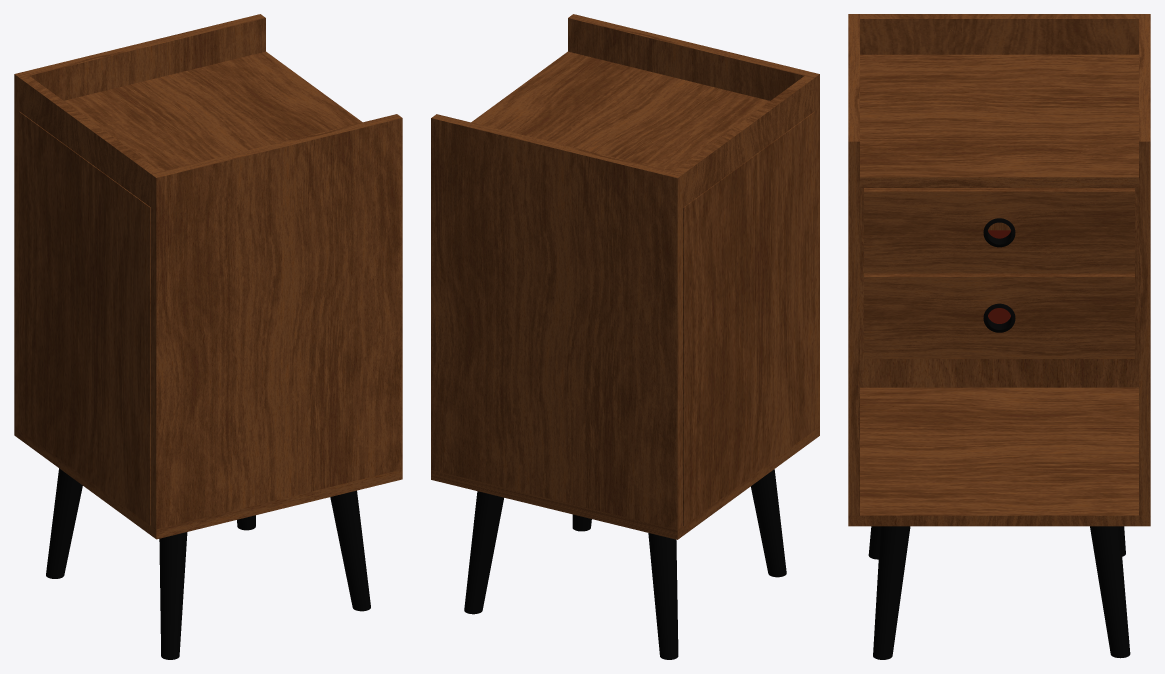
Rendered from criadomudo.glb.
3 views of the same model, side by side, from view 1: azimuth 30°, elevation 25°; view 2: azimuth 150°, elevation 25°; view 3: azimuth 270°, elevation 25° (orthographic). The views are drawn at different scales.
Parts seen in each view (by area): view 1: Componente4\Sólido, Componente6\Superfície, Componente3\Sólido, Componente5\Sólido, Componente6\Sólido, Componente2\Sólido, Pattern (Padrão)\Componente8\Sólido (2), Pattern (Padrão)\Componente8\Sólido (3), Pattern (Padrão)\Componente8\Sólido; view 2: Componente5\Sólido, Componente6\Superfície, Componente3\Sólido, Componente4\Sólido, Componente6\Sólido, Componente2\Sólido, Pattern (Padrão)\Componente8\Sólido, Pattern (Padrão)\Componente8\Sólido (4), Pattern (Padrão)\Componente8\Sólido (2); view 3: Componente2\Sólido, Componente3\Sólido, Componente7\Sólido, Componente7\Sólido (2), Componente6\Sólido, Componente6\Superfície, Componente4\Sólido, Componente5\Sólido, Pattern (Padrão)\Componente8\Sólido (3), Pattern (Padrão)\Componente8\Sólido (4), Componente7\Sólido1, Componente7\Sólido1 (2) (+1 smaller).
Boxes of the visible parts, x1,y1,x2,y2 form: Componente4\Sólido: [151, 114, 402, 529]; Componente6\Superfície: [19, 111, 150, 525]; Componente3\Sólido: [64, 51, 362, 171]; Componente5\Sólido: [14, 14, 265, 428]; Componente6\Sólido: [20, 76, 159, 207]; Componente2\Sólido: [14, 425, 402, 539]; Pattern (Padrão)\Componente8\Sólido (2): [159, 532, 187, 659]; Pattern (Padrão)\Componente8\Sólido (3): [330, 490, 370, 611]; Pattern (Padrão)\Componente8\Sólido: [46, 468, 82, 578]; Componente5\Sólido: [431, 114, 682, 529]; Componente6\Superfície: [683, 111, 814, 525]; Componente3\Sólido: [471, 51, 769, 171]; Componente4\Sólido: [568, 14, 819, 428]; Componente6\Sólido: [674, 76, 814, 207]; Componente2\Sólido: [431, 426, 819, 539]; Pattern (Padrão)\Componente8\Sólido: [648, 533, 678, 659]; Pattern (Padrão)\Componente8\Sólido (4): [464, 491, 503, 614]; Pattern (Padrão)\Componente8\Sólido (2): [751, 469, 786, 577]; Componente2\Sólido: [848, 387, 1150, 526]; Componente3\Sólido: [860, 54, 1138, 187]; Componente7\Sólido: [864, 188, 1134, 273]; Componente7\Sólido (2): [864, 273, 1134, 358]; Componente6\Sólido: [860, 14, 1138, 54]; Componente6\Superfície: [860, 188, 1138, 387]; Componente4\Sólido: [848, 14, 859, 515]; Componente5\Sólido: [1139, 14, 1150, 515]; Pattern (Padrão)\Componente8\Sólido (3): [873, 526, 910, 659]; Pattern (Padrão)\Componente8\Sólido (4): [1090, 526, 1130, 658]; Componente7\Sólido1: [983, 218, 1015, 247]; Componente7\Sólido1 (2): [983, 303, 1015, 332].
Size of the model in its own units: 0.3424 by 0.6512 by 0.3388.
Materials: 3 (1 with a texture image).
